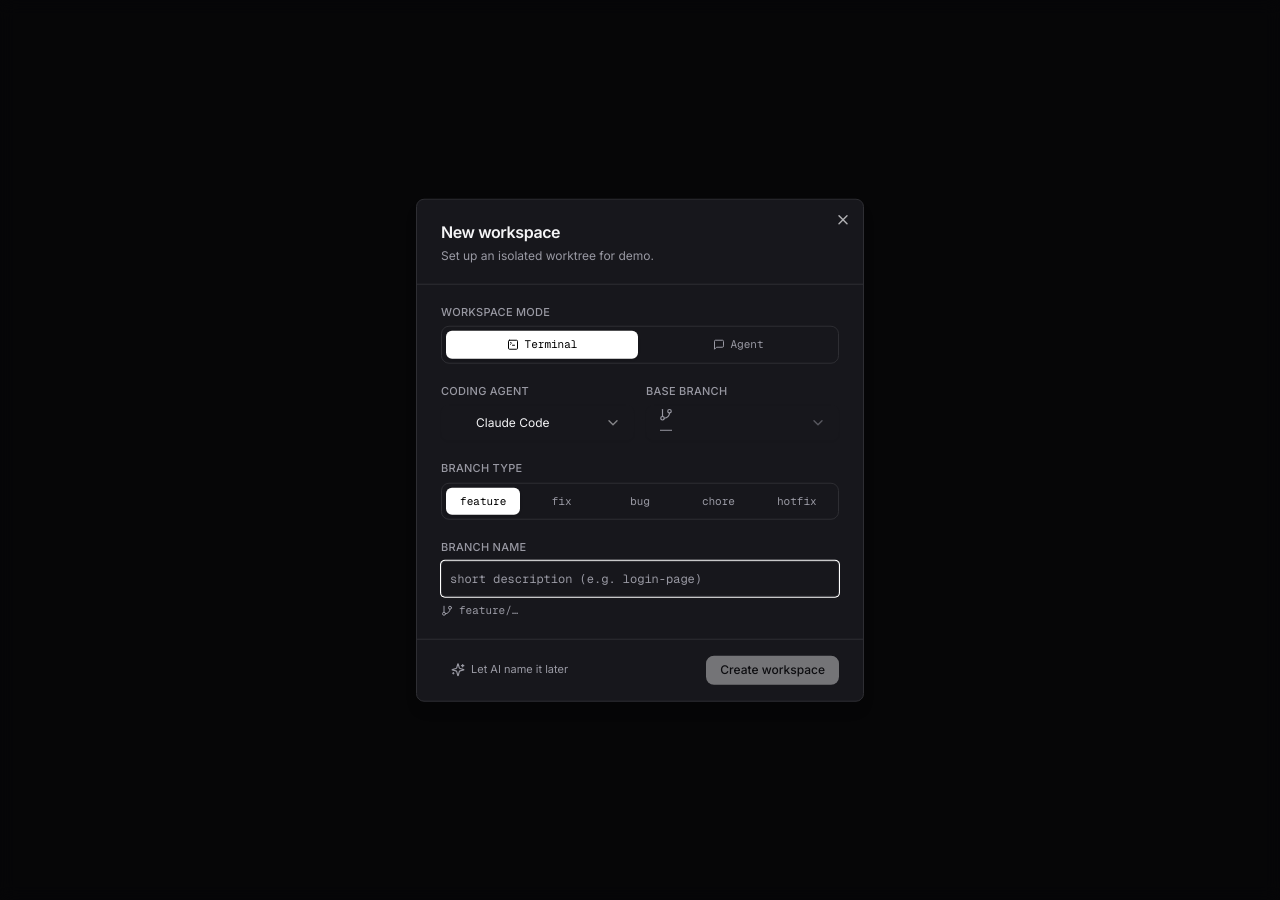
Test: NewWorkspaceDialog — branch naming › Create is disabled until a name is entered
Expected: the button with test id "branch-create" is disabled, [706, 656, 839, 684]
Type "login page" into the field with test id "branch-name-input" at (640, 579), box [441, 561, 839, 597]
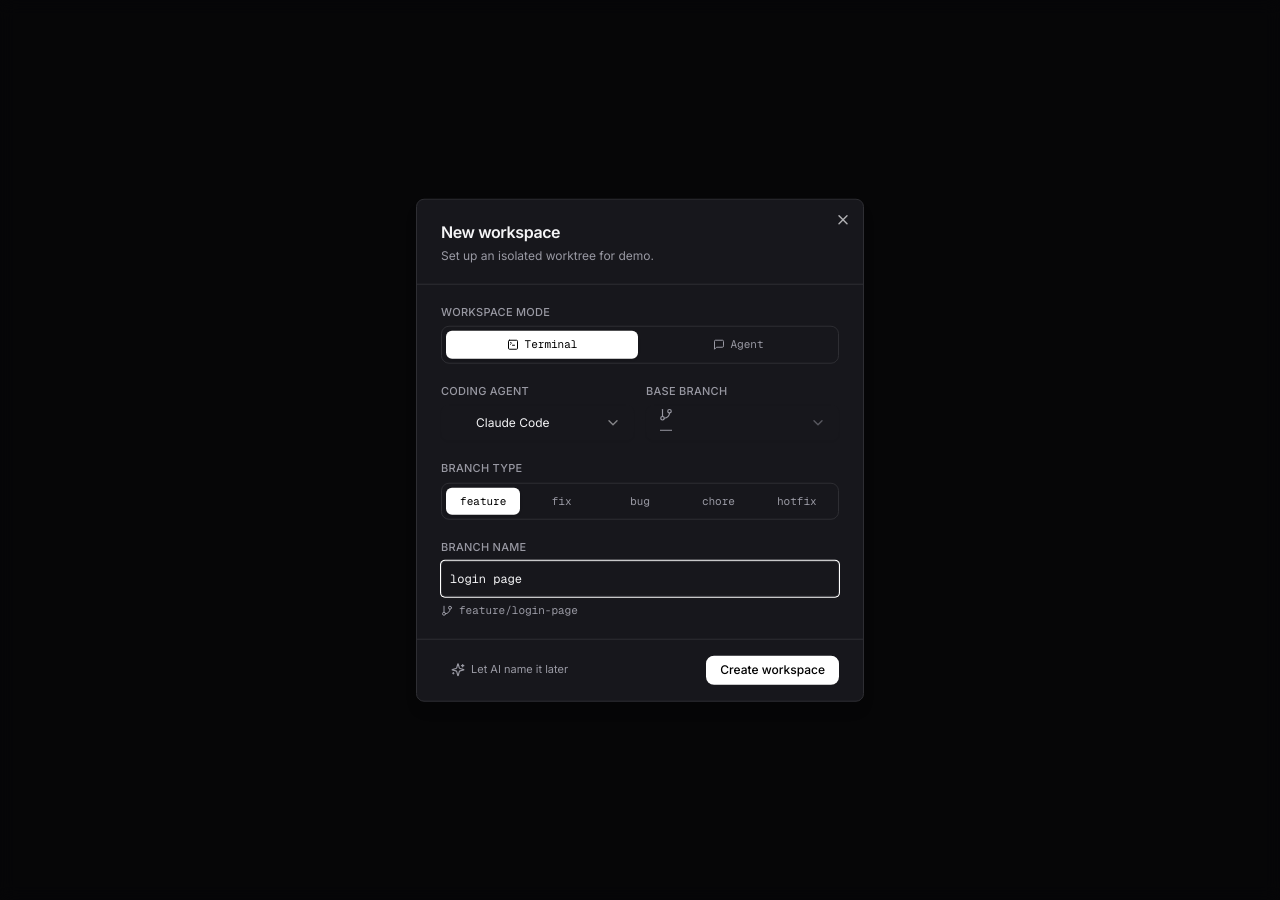
Result: the button with test id "branch-create" is enabled at [706, 656, 839, 684]
